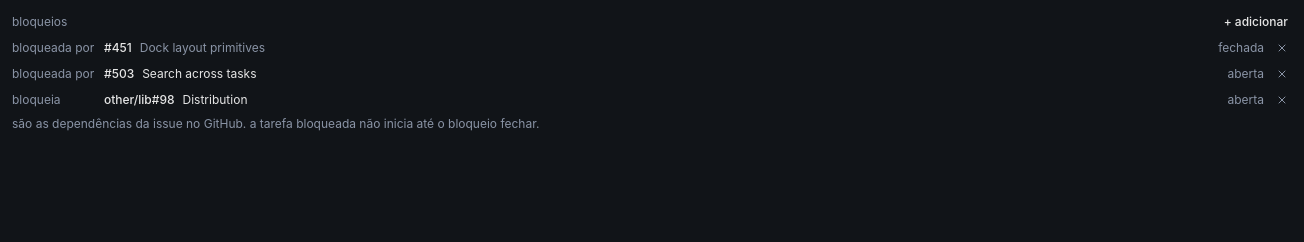
it: + adicionar opens the add row with the field focused; a refused add keeps it open with the error, one that lands closes it (#57)
Click the button "+ adicionar" at (1256, 22), box [1220,12,1292,32]
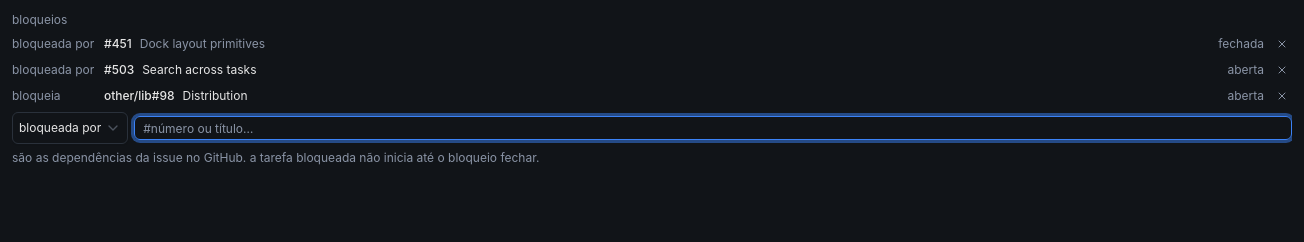
Expected: the button "+ adicionar" is gone
Type keys "#99{Enter}"
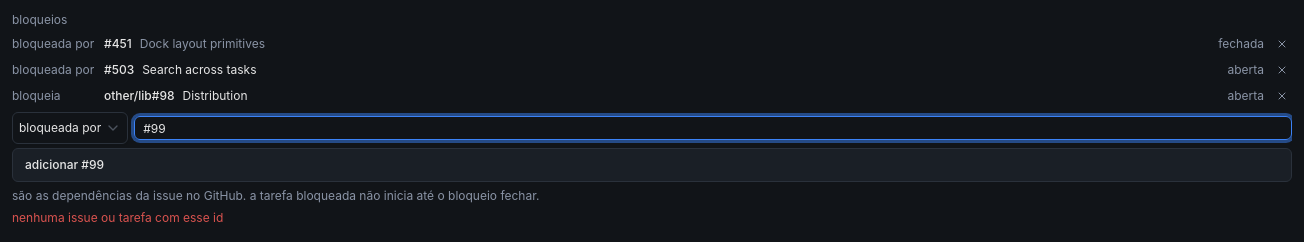
Expected: the message reads "nenhuma issue ou tarefa com esse id", [12,210,223,225]
Press Enter
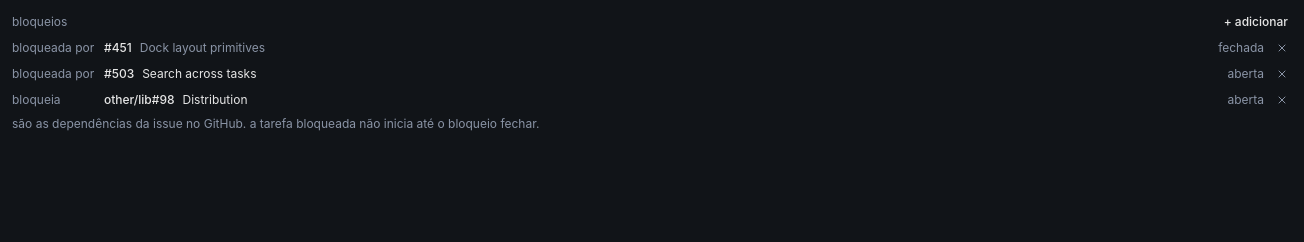
Expected: the dropdown labelled "#número ou título…" is not shown
Expected: the button "+ adicionar" is shown, [1220,12,1292,32]
